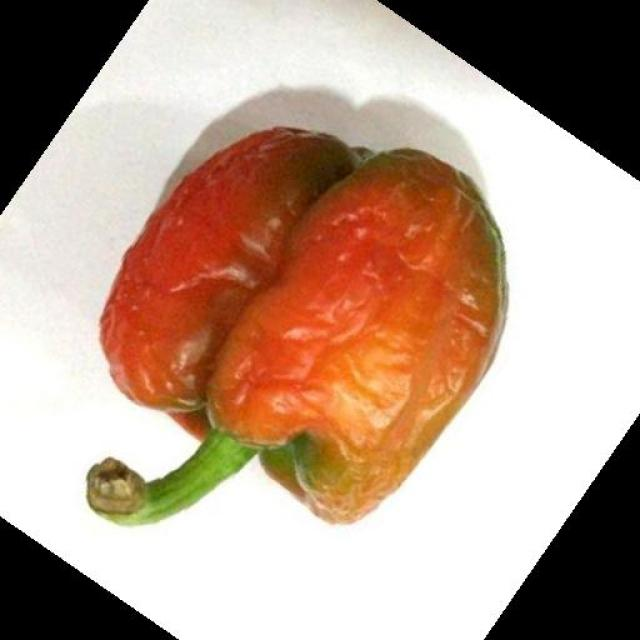Stale_Capsicum: (88, 100, 527, 528)
